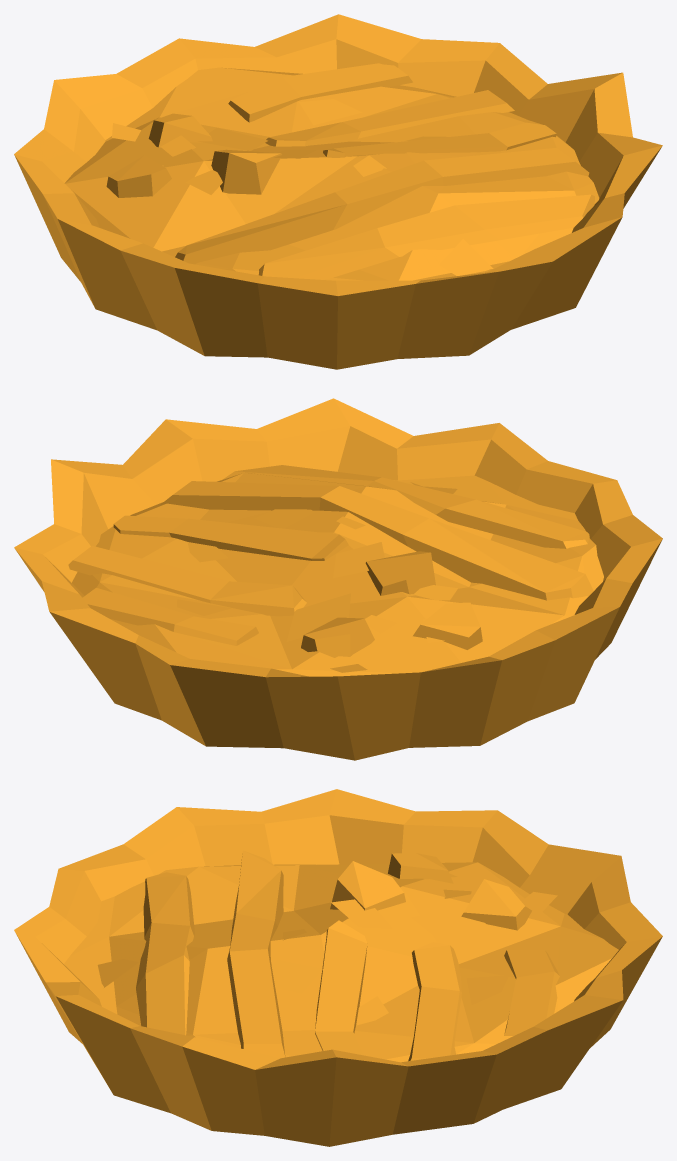
The model's file is SM_Pie_4july_A.fbx.
The picture shows the model from 3 angles, top to bottom: view 1: azimuth 30°, elevation 25°; view 2: azimuth 150°, elevation 25°; view 3: azimuth 270°, elevation 25°; orthographic projection.
Visible parts, largest first — view 1: pie-4july-a; view 2: pie-4july-a; view 3: pie-4july-a.
Boxes of the visible parts, bbox=[...] form: pie-4july-a: bbox=[14, 14, 662, 369]; pie-4july-a: bbox=[14, 398, 662, 760]; pie-4july-a: bbox=[14, 789, 662, 1146].
Bounding box in the file's own units: 0.2934 × 0.0629 × 0.2909.
